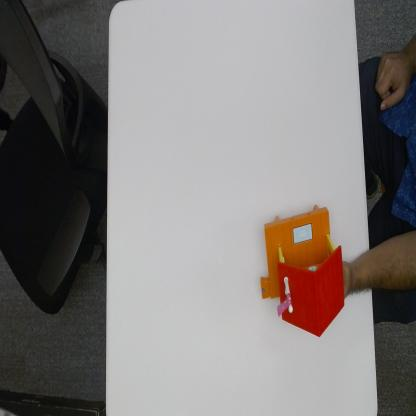Arm: (353, 250, 374, 294)
Hand: (342, 253, 353, 297)
House: (261, 204, 344, 342)
